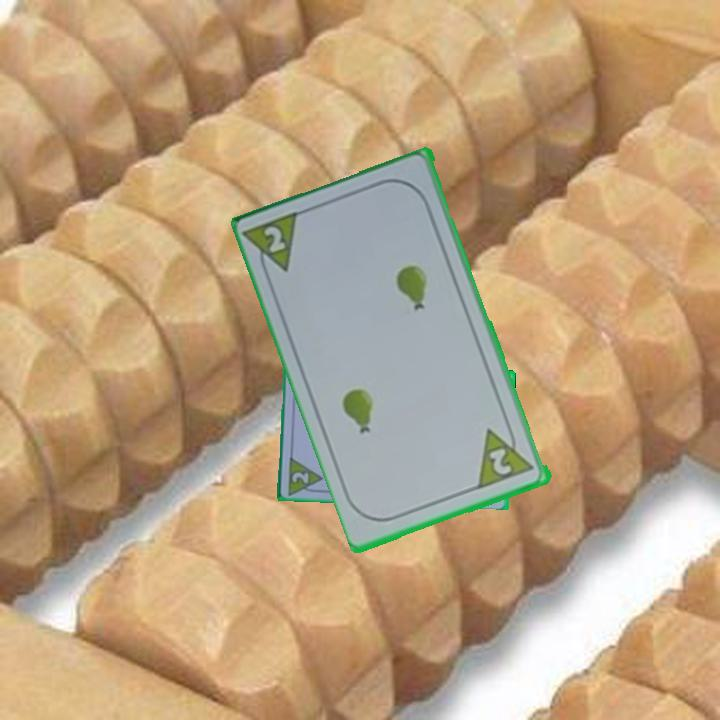2p: (242, 207, 306, 283), (486, 444, 516, 479), (288, 468, 312, 486)
